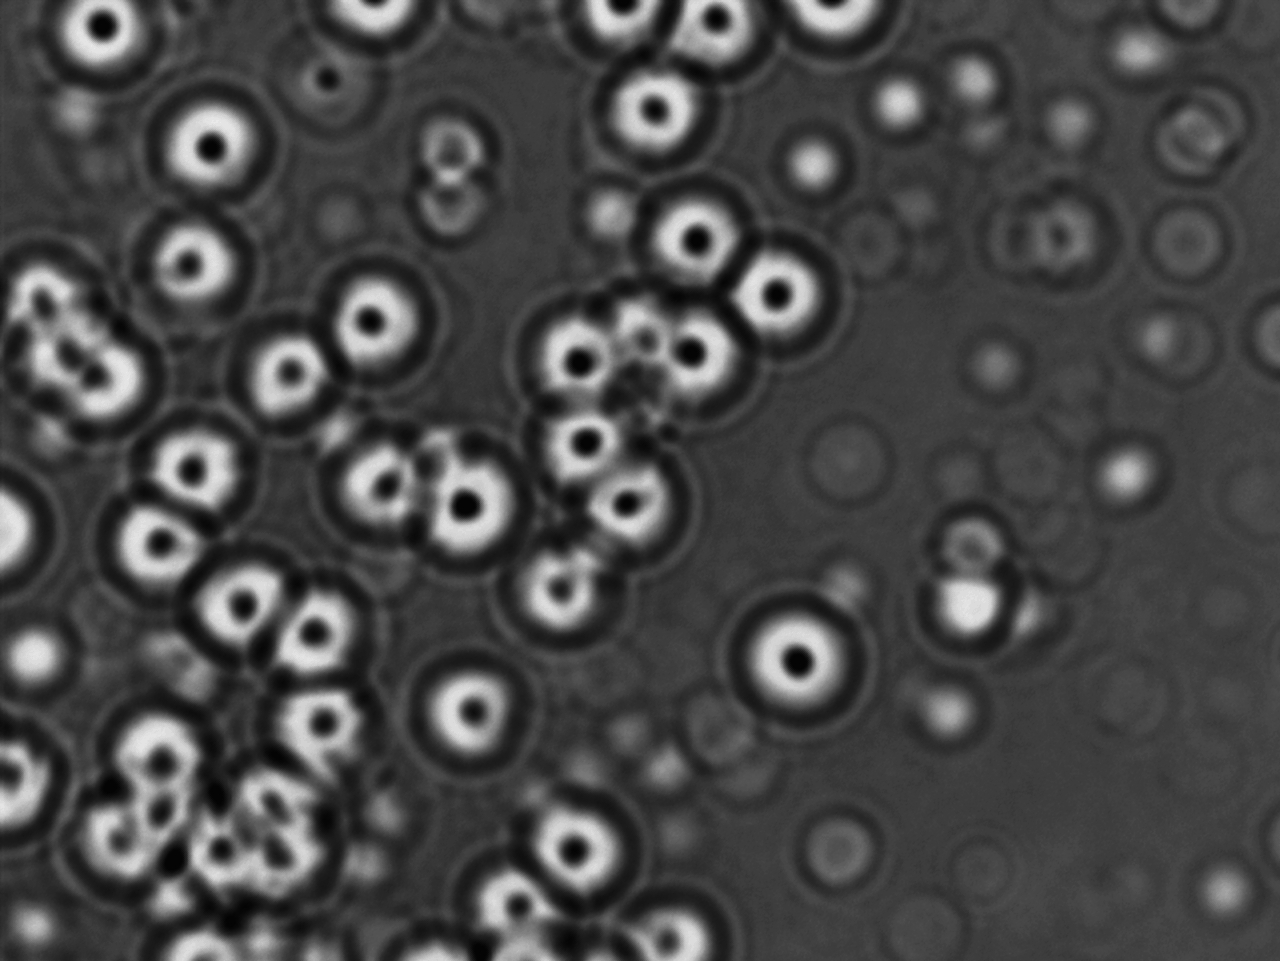depth:24: (727, 583, 872, 727), (406, 438, 528, 566), (148, 76, 271, 204), (412, 652, 535, 777), (635, 169, 760, 292), (592, 50, 715, 175), (726, 235, 843, 363), (316, 262, 443, 380), (138, 202, 259, 321), (320, 421, 433, 548), (518, 387, 646, 499), (140, 407, 259, 525), (517, 296, 633, 415), (96, 480, 215, 596), (521, 786, 639, 901), (573, 448, 694, 560), (633, 295, 745, 415), (457, 846, 577, 955), (509, 538, 623, 650), (230, 316, 339, 430), (186, 541, 297, 651), (268, 671, 377, 777), (266, 576, 370, 680)
